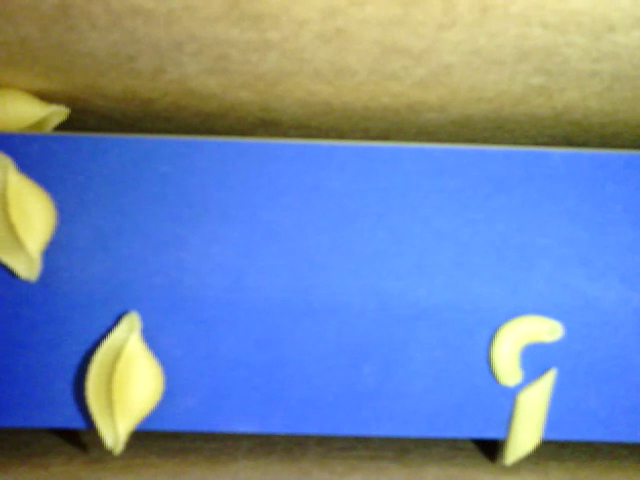elbow: (485, 312, 567, 385)
penne: (498, 364, 560, 467)
shell: (80, 308, 162, 453), (1, 153, 60, 286), (1, 85, 73, 132)
